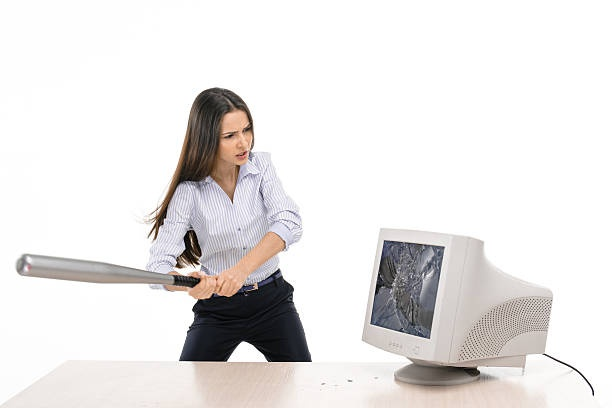bita: (12, 250, 231, 294)
